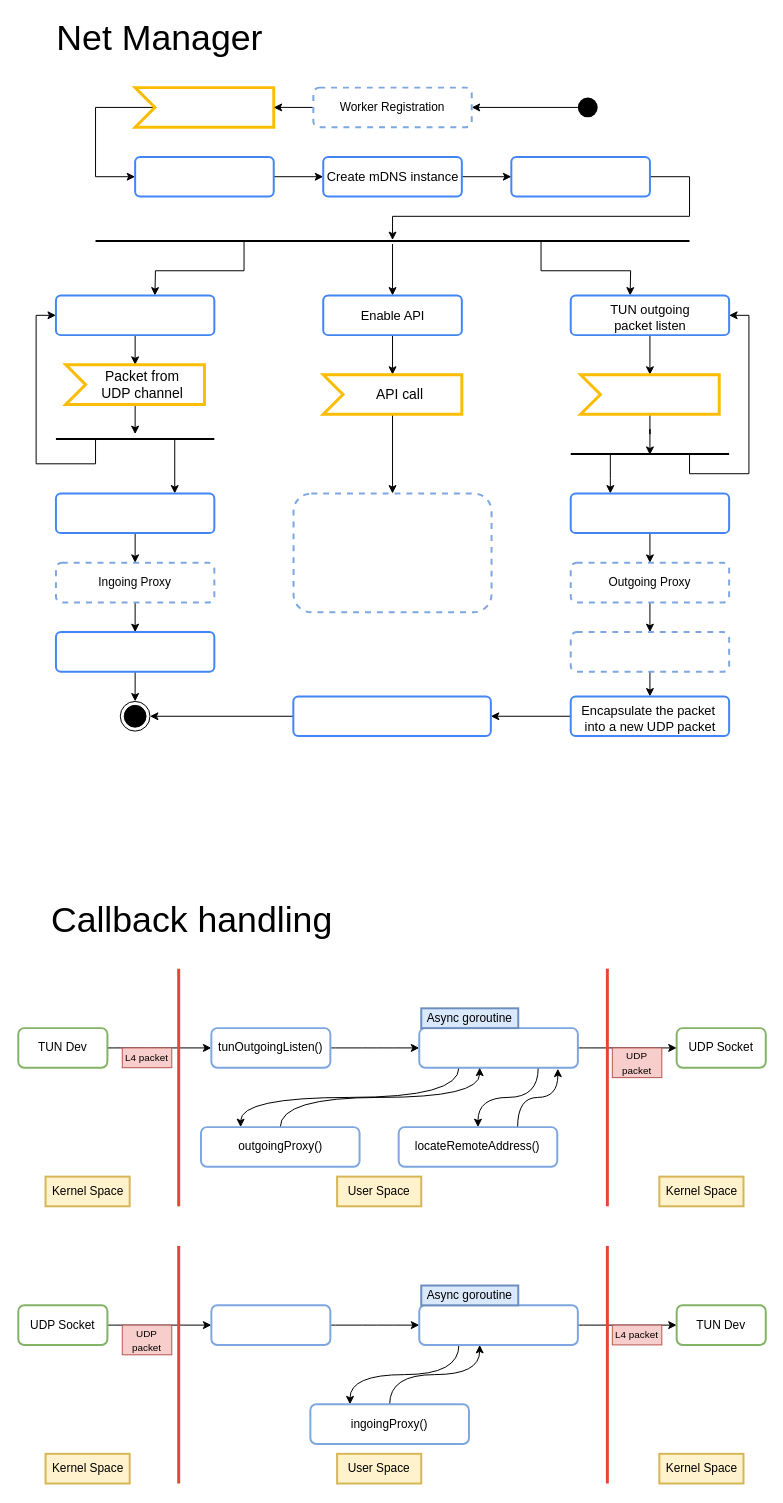
The diagram is 783 pixels wide and 1503 high, and some of its shapes have lost their labels. The shapes that lost their labels are listed below. From the top down, each one's centre as x and y in pixels, then its label:
[204,107]: Worker registration completed
[204,176]: Create Bridge
[580,176]: Create ProxyTUN
[134,315]: TUN Ingoing packet listen
[649,394]: Packet from TUN interface
[134,513]: Ingoing Message callback
[649,513]: Outgoing Message callback
[392,552]: Execute API call action
[134,651]: Forward packet to TUN device
[649,651]: Find destination host IP and Port
[391,716]: Forward via UDP channel to host IP and Port
[498,1047]: outgoingMessage(packet)
[270,1324]: tunIngoingListen()
[498,1324]: ingoingMessage(packet)
